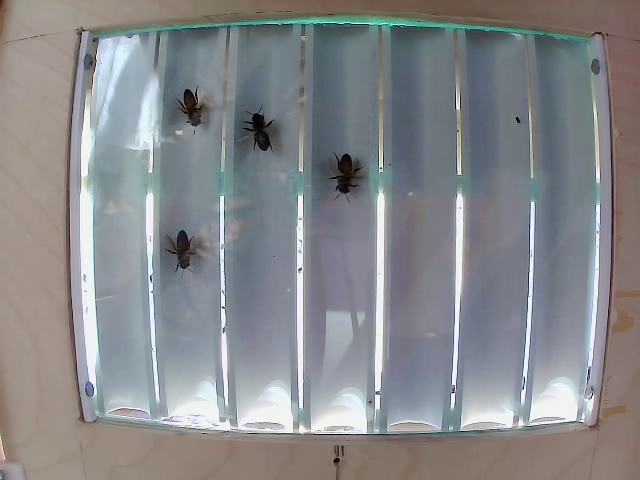bee: (326, 143, 364, 218), (238, 118, 274, 161), (178, 95, 209, 140), (170, 218, 198, 265)
